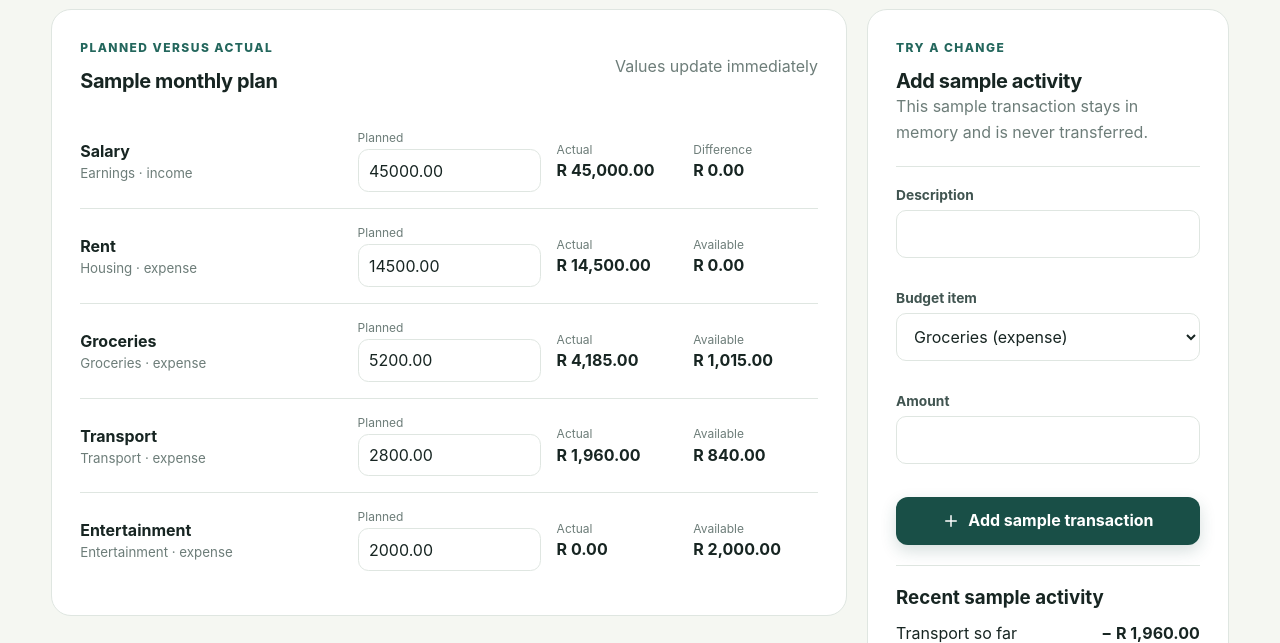
Test case: DemoPage › lets visitors adjust planned values locally
The width and height of the screenshot is (1280, 643).
(page scrolled)
Replace the text in the field named "Planned Groceries" with "6000.00" at [449, 360], box [358,339,541,382]
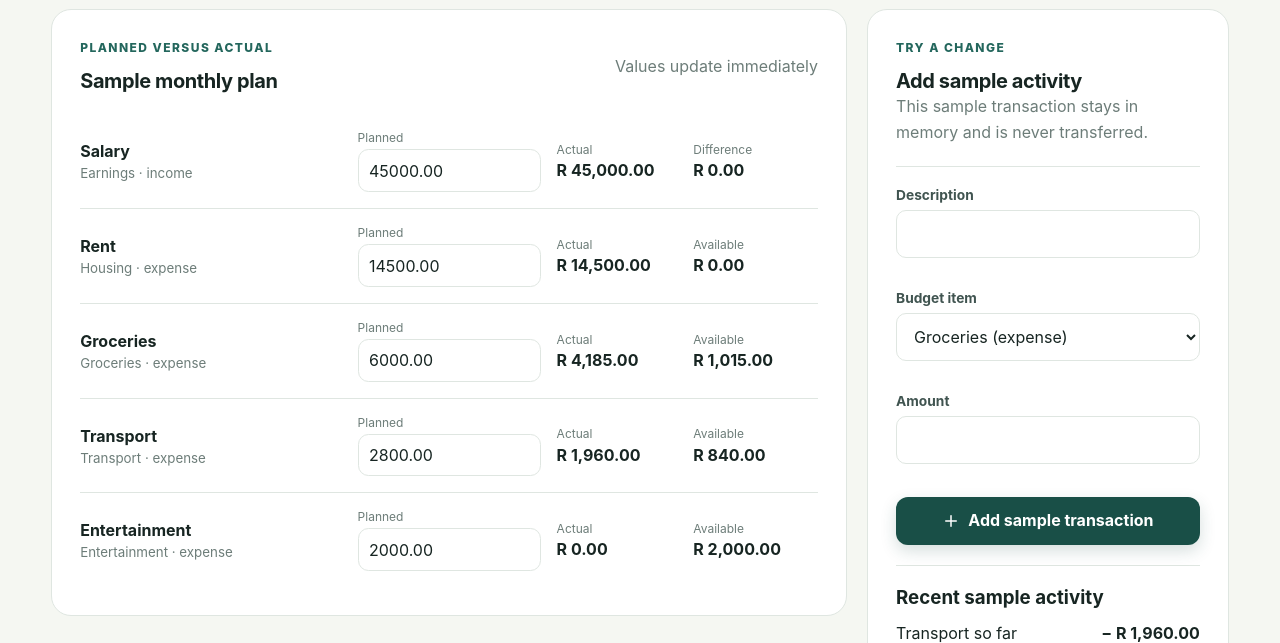
Leave the field named "Planned Groceries", box [358,339,541,382]
(page scrolled)
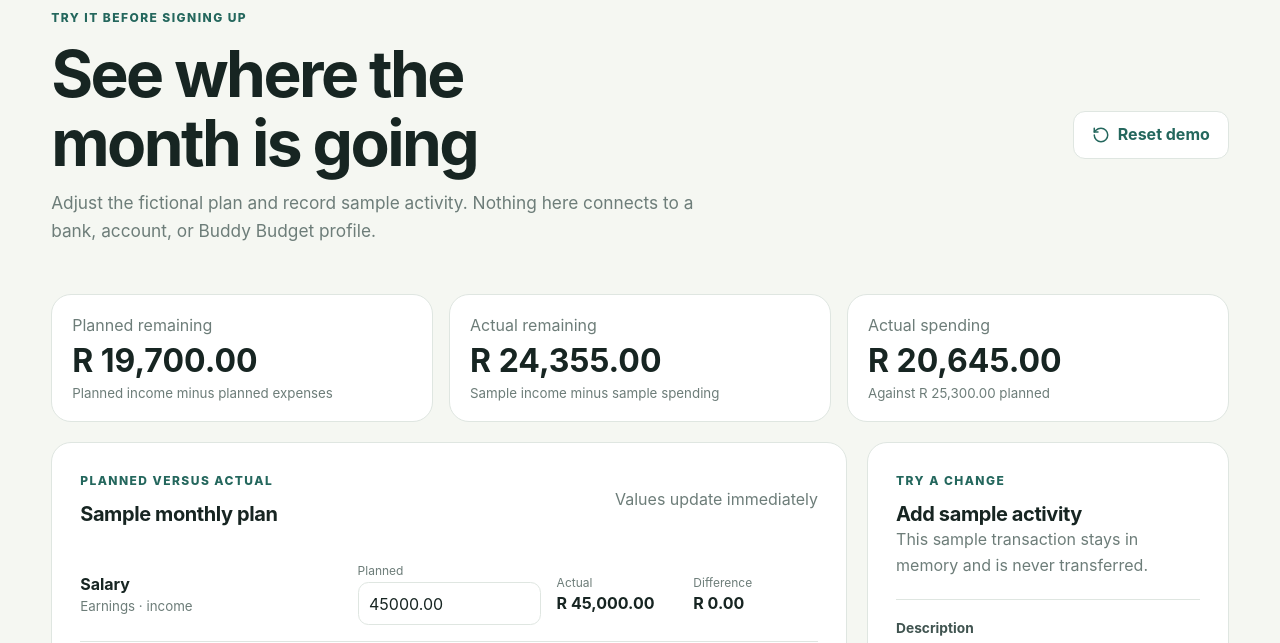
Expected: the text "Planned remaining" is shown, [72,315,212,335]
Expected: the text "R 19,700.00" is shown, [72,340,258,380]
